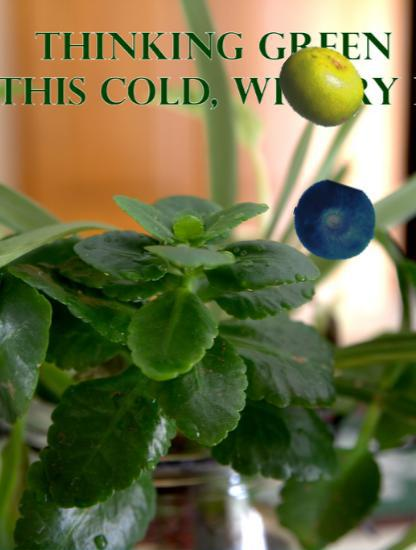Huckleberry: (293, 180, 377, 264)
Pomelo: (278, 42, 367, 131)
